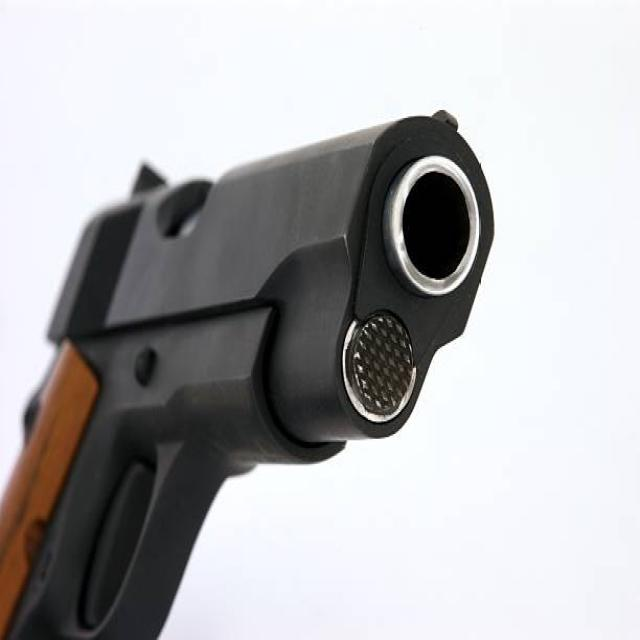pistol: (1, 102, 504, 640)
